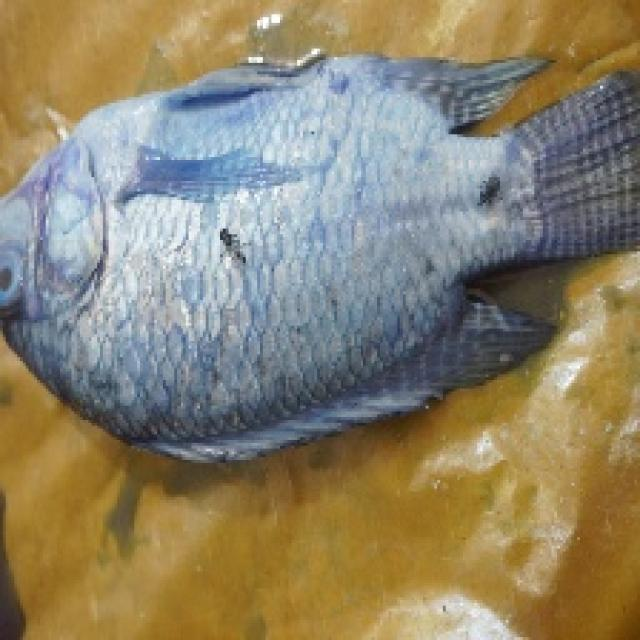Non-Fresh: (1, 61, 496, 428)
